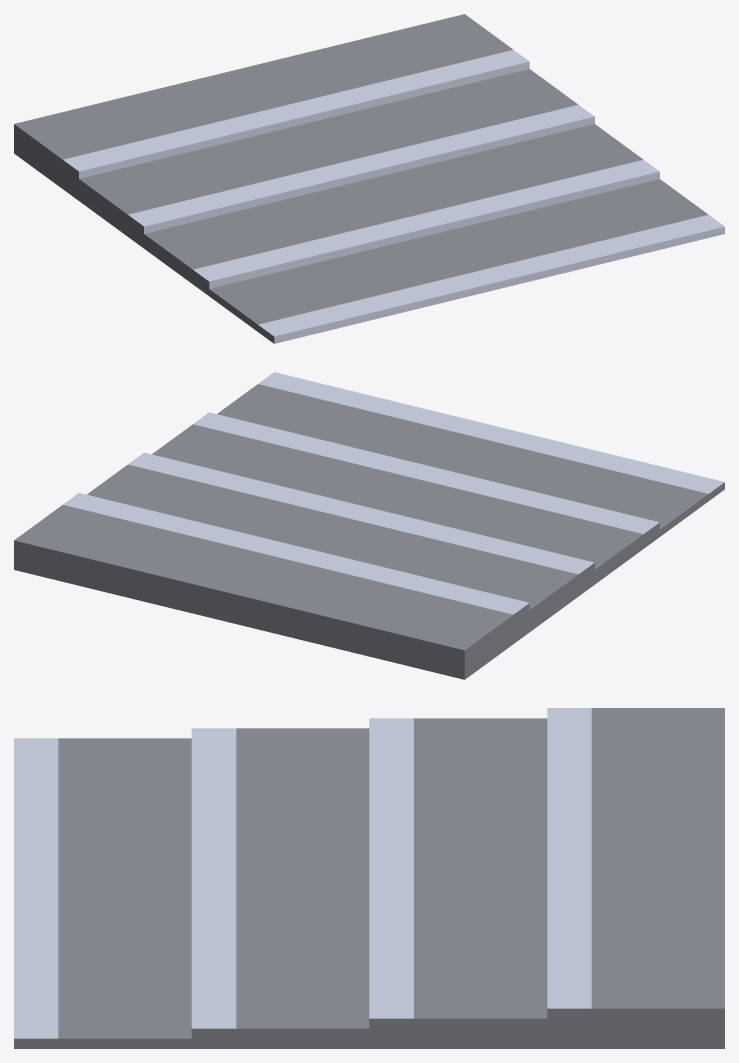
File: spaceInterior_078.obj
3 views of the same model, one above another, from view 1: azimuth 30°, elevation 25°; view 2: azimuth 150°, elevation 25°; view 3: azimuth 270°, elevation 25° (orthographic). The views are drawn at different scales.
Visible parts, largest first — view 1: Mesh1 Group1 Model; view 2: Mesh1 Group1 Model; view 3: Mesh1 Group1 Model.
Part boxes in pixels (bbox=[...]): Mesh1 Group1 Model: bbox=[14, 14, 724, 343]; Mesh1 Group1 Model: bbox=[14, 372, 724, 679]; Mesh1 Group1 Model: bbox=[14, 708, 724, 1048].
Size of the model in its own units: 1 by 0.0625 by 1.
